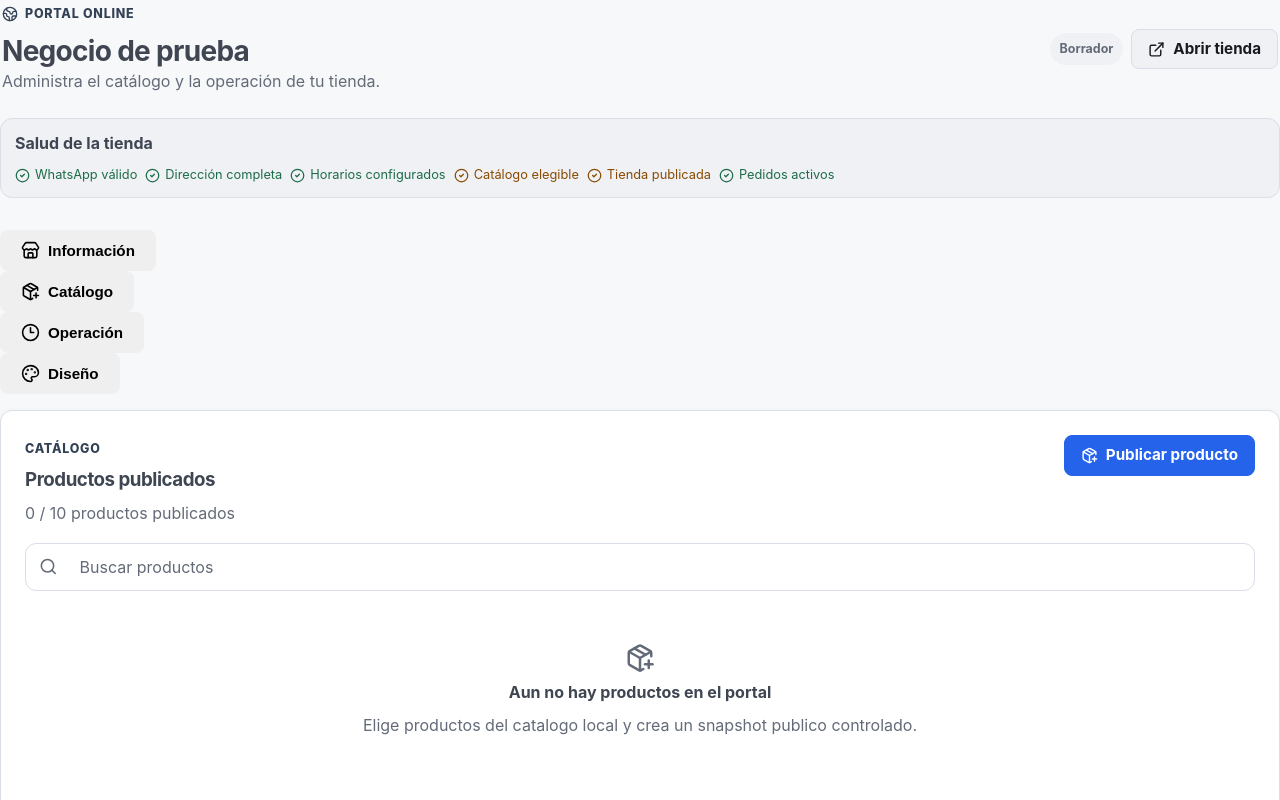
Test case: EcommercePortalSettings + EcommerceProductPublishModal catalog lifecycle › invalidates a pending request when the modal closes and starts the next opening cleanly
Click the button "Publicar producto": (1159, 456) [1064, 435, 1255, 476]
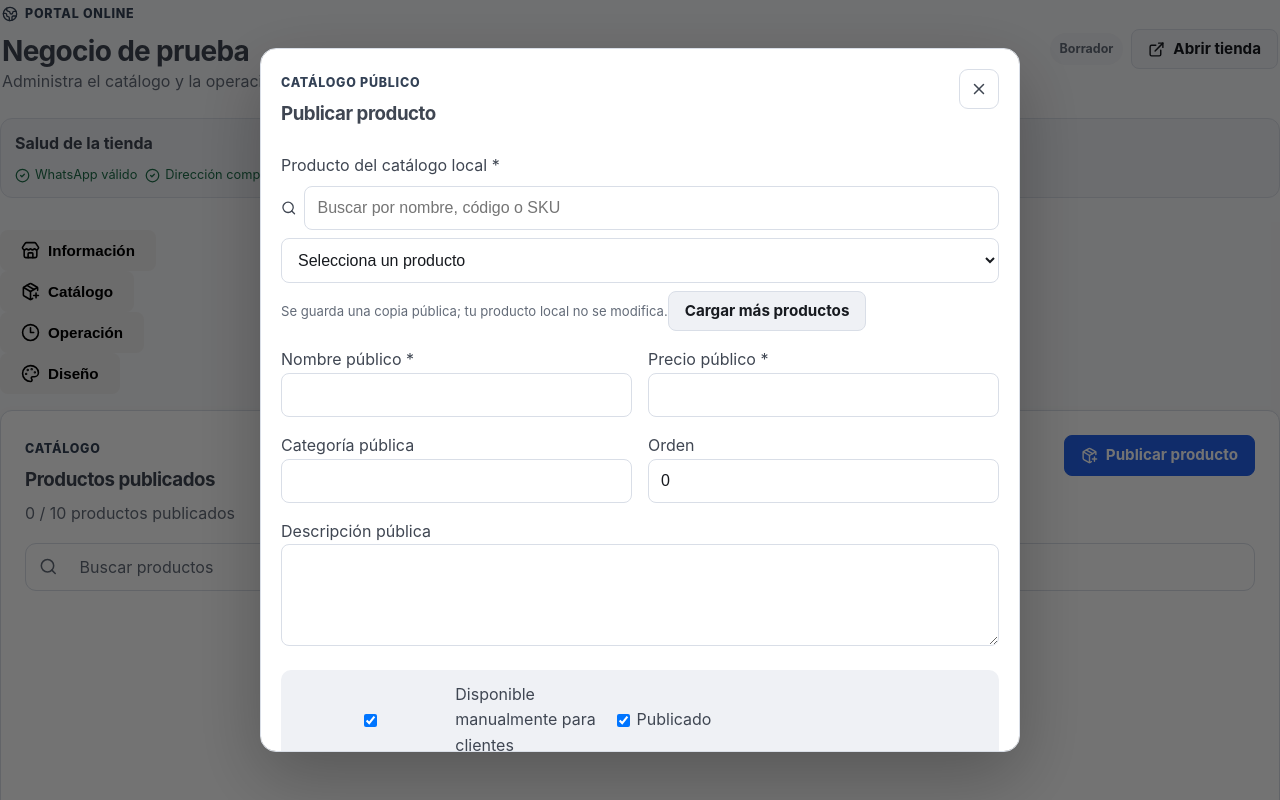
Now the dialog "Publicar producto" is shown, box [260, 48, 1020, 752]
Select "Producto Uno — $25.00" in the dropdown: (640, 261) [281, 238, 999, 283]
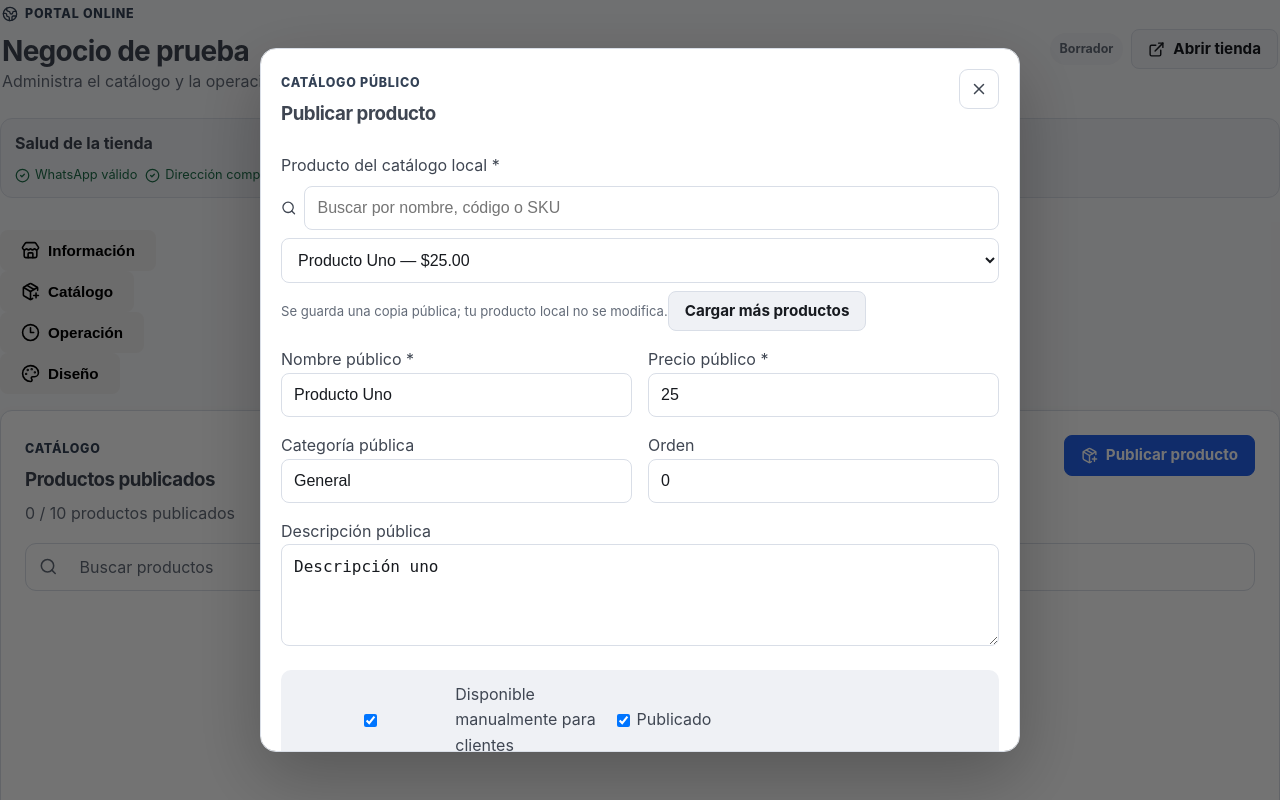
Now the field showing "Producto Uno" is shown, box [281, 373, 632, 417]
In the search field with placeholder "Buscar por nombre, código o SKU": (652, 208) [304, 186, 999, 230], type "pendiente"
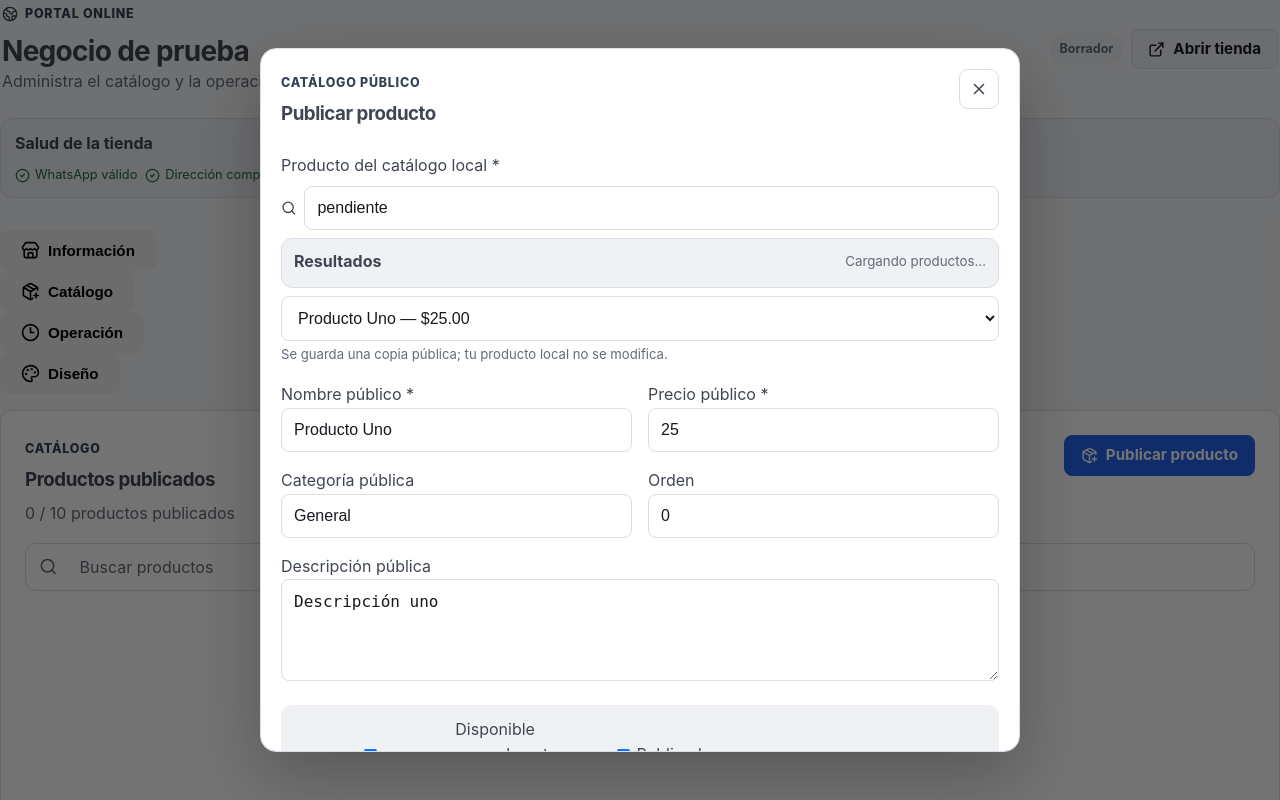
Now the text "Cargando productos…" is shown, box [845, 251, 986, 273]
Click the button named "Cerrar": (979, 89) [959, 69, 999, 109]
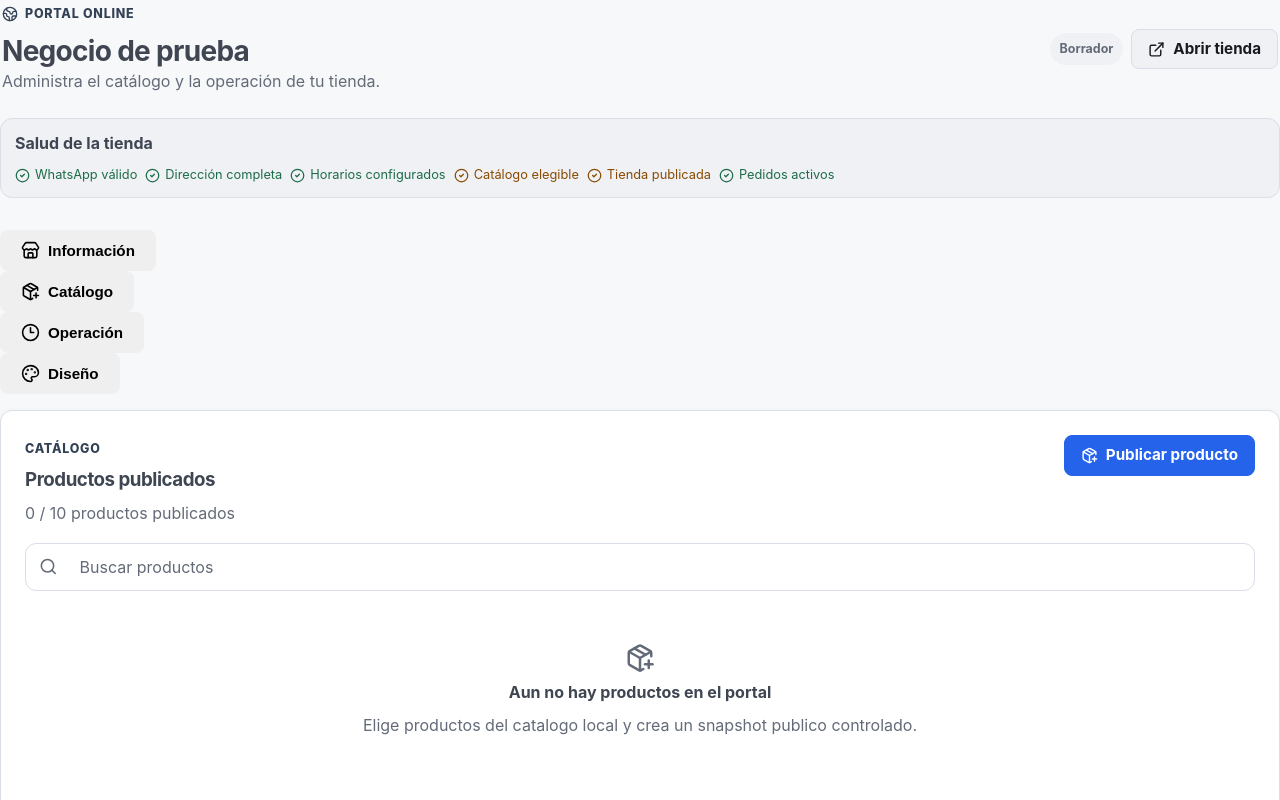
Click the button "Publicar producto": (1159, 456) [1064, 435, 1255, 476]
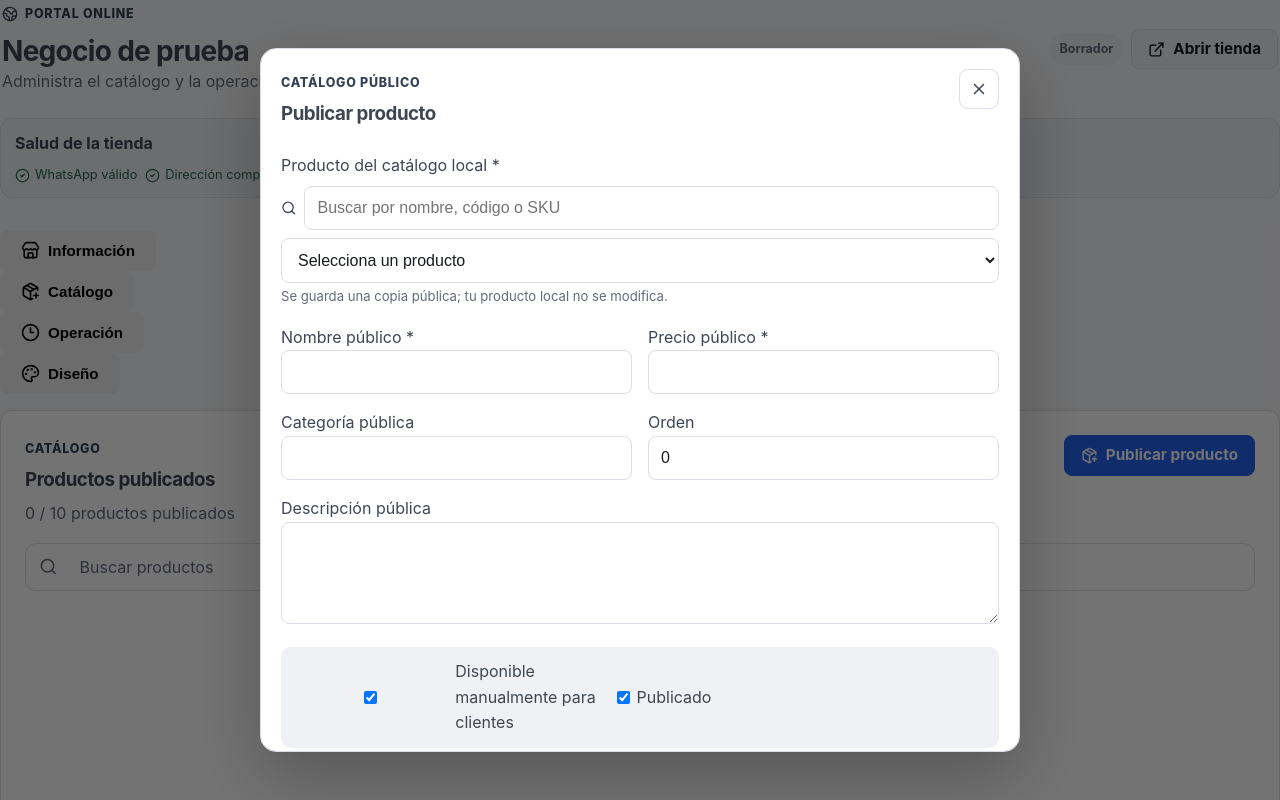
Now the dialog "Publicar producto" is shown, box [260, 48, 1020, 752]
Now the search field with placeholder "Buscar por nombre, código o SKU" is empty, box [304, 186, 999, 230]
Now the dropdown shows "Selecciona un producto", box [281, 238, 999, 283]
